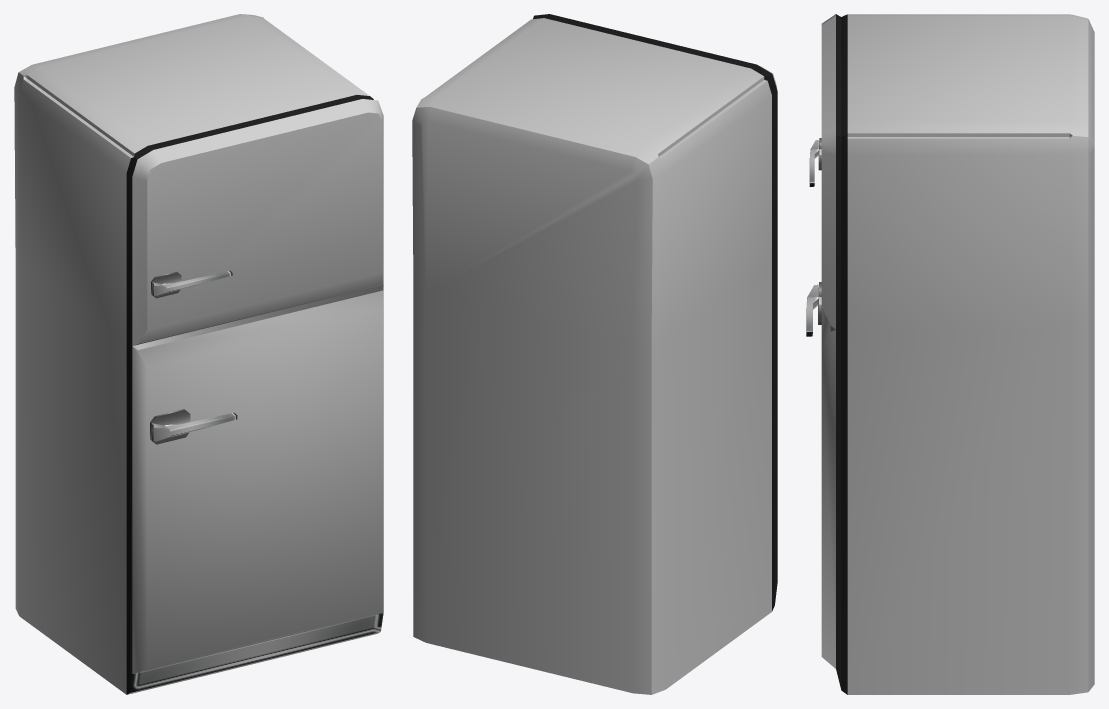
Rendered from Fridge_02.FBX.
3 views of the same model, side by side, from view 1: azimuth 30°, elevation 25°; view 2: azimuth 150°, elevation 25°; view 3: azimuth 270°, elevation 25° (orthographic). The views are drawn at different scales.
Parts seen in each view (by area): view 1: Fridge; view 2: Fridge; view 3: Fridge.
Part boxes in pixels (x1,y1,x2,y2): Fridge: (14,14,383,694); Fridge: (412,14,777,694); Fridge: (806,14,1094,694).
Size of the model in its own units: 145 by 300 by 139.
